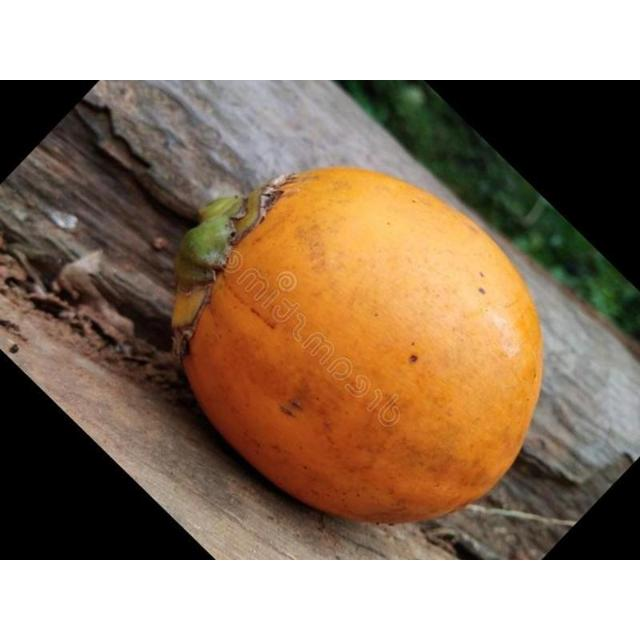good: (181, 167, 544, 527)
